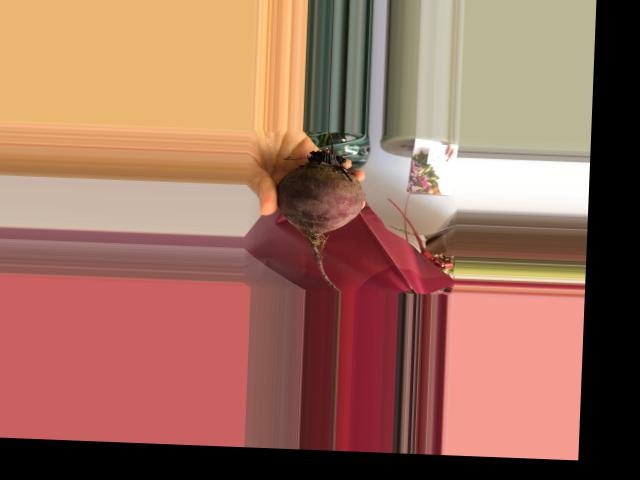beet: (273, 130, 367, 291)
